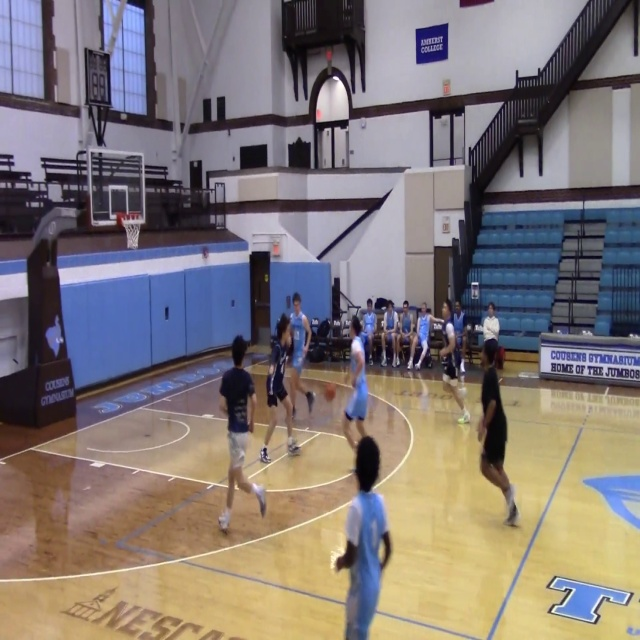Basketball: (324, 383, 335, 401), (495, 346, 505, 362)
